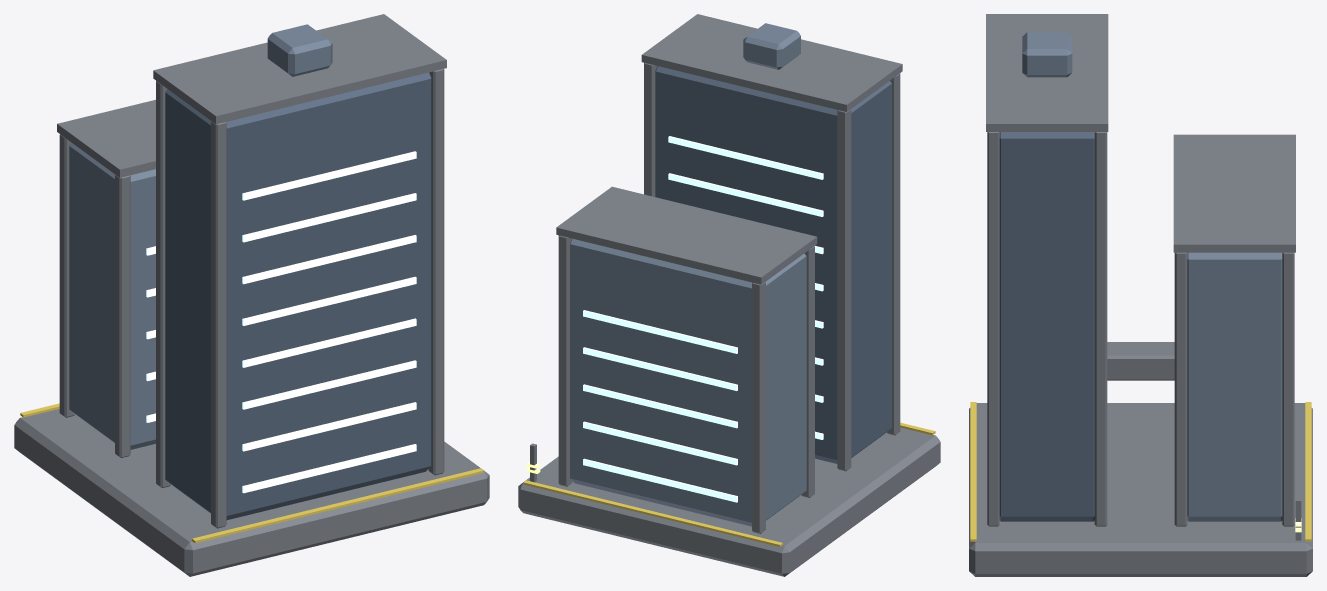
File: zone_high_5_t2.glb
The picture shows the model from 3 angles, left to right: view 1: azimuth 30°, elevation 25°; view 2: azimuth 150°, elevation 25°; view 3: azimuth 270°, elevation 25°; orthographic projection. The views are drawn at different scales.
Parts seen in each view (by area): view 1: zone_high_5_t2, detail; view 2: zone_high_5_t2, detail; view 3: zone_high_5_t2, detail.
Boxes of the visible parts, x1,y1,x2,y2 form: zone_high_5_t2: (14,14,489,576); detail: (20,403,483,543); zone_high_5_t2: (518,14,940,576); detail: (523,422,935,546); zone_high_5_t2: (969,14,1312,576); detail: (970,402,1311,541).
Bounding box in the file's own units: 27.5 × 41.16 × 27.5.
